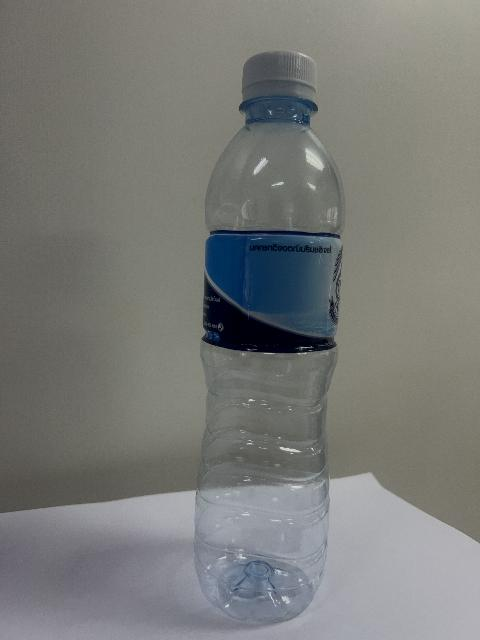bottle: (194, 52, 343, 622)
